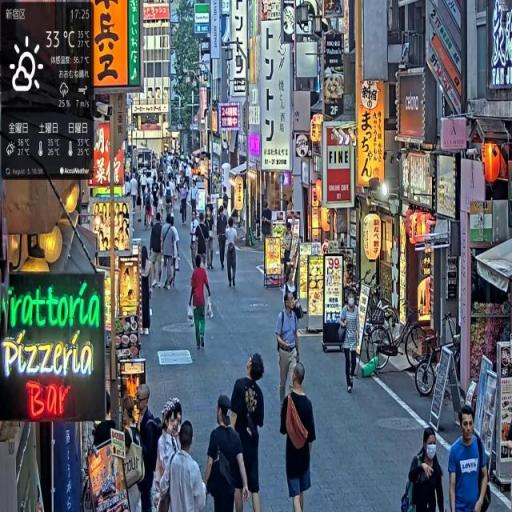person: (231, 352, 268, 512), (203, 392, 250, 512), (281, 362, 318, 512), (448, 405, 491, 512), (168, 420, 212, 512), (277, 286, 304, 425), (134, 386, 163, 512), (405, 427, 446, 512), (154, 398, 184, 512), (189, 254, 214, 354), (340, 292, 361, 396), (162, 214, 181, 293), (151, 214, 165, 288), (225, 217, 239, 290), (217, 205, 230, 272), (180, 179, 191, 226), (144, 185, 154, 231)
